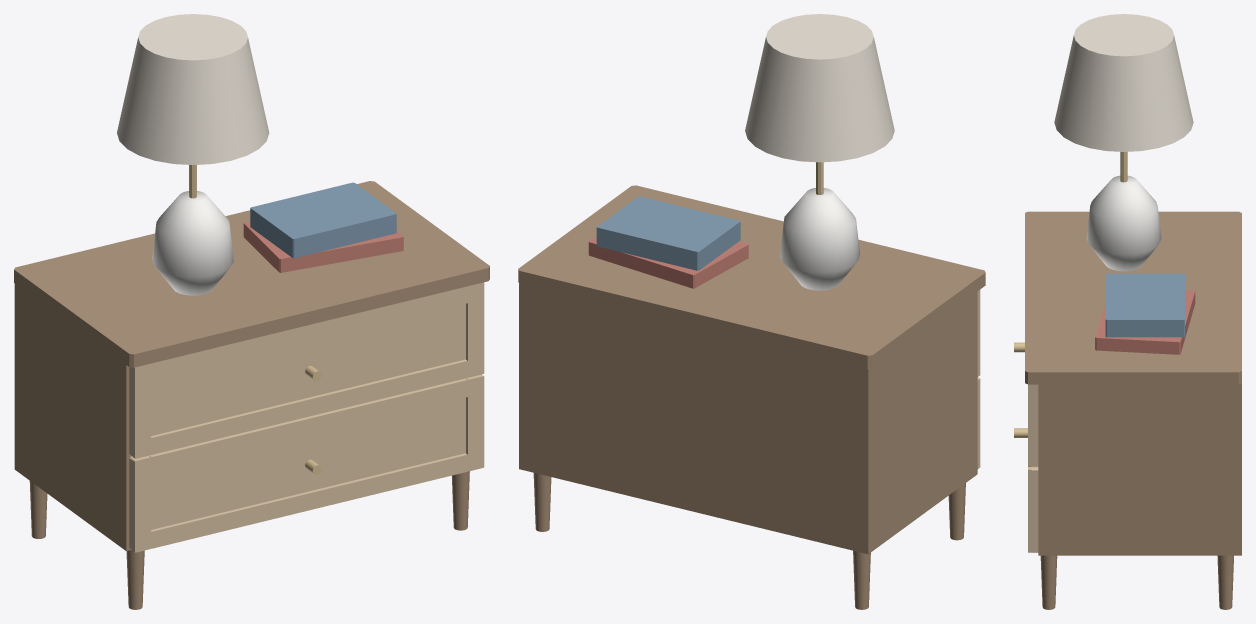
3 renders of one model, left to right at view 1: azimuth 30°, elevation 25°; view 2: azimuth 150°, elevation 25°; view 3: azimuth 270°, elevation 25°, orthographic. The views are drawn at different scales.
Visible parts, largest first — view 1: Tab đầu giường Rộng=700; Sâu=400; view 2: Tab đầu giường Rộng=700; Sâu=400; view 3: Tab đầu giường Rộng=700; Sâu=400.
Boxes of the visible parts, box(x1,y1,x2,y2) form: Tab đầu giường Rộng=700; Sâu=400: box(14, 14, 489, 609); Tab đầu giường Rộng=700; Sâu=400: box(518, 14, 985, 609); Tab đầu giường Rộng=700; Sâu=400: box(1014, 14, 1241, 609).
Size of the model in its own units: 0.71 by 0.97 by 0.425.
